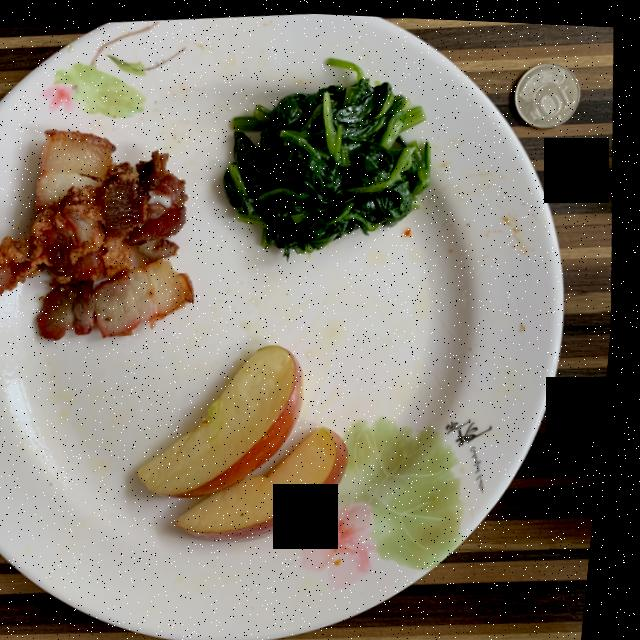apple -sliced-: (145, 343, 356, 538)
coin: (514, 58, 580, 123)
mustard greens: (226, 56, 432, 253)
red grilled pork: (0, 129, 198, 339)
